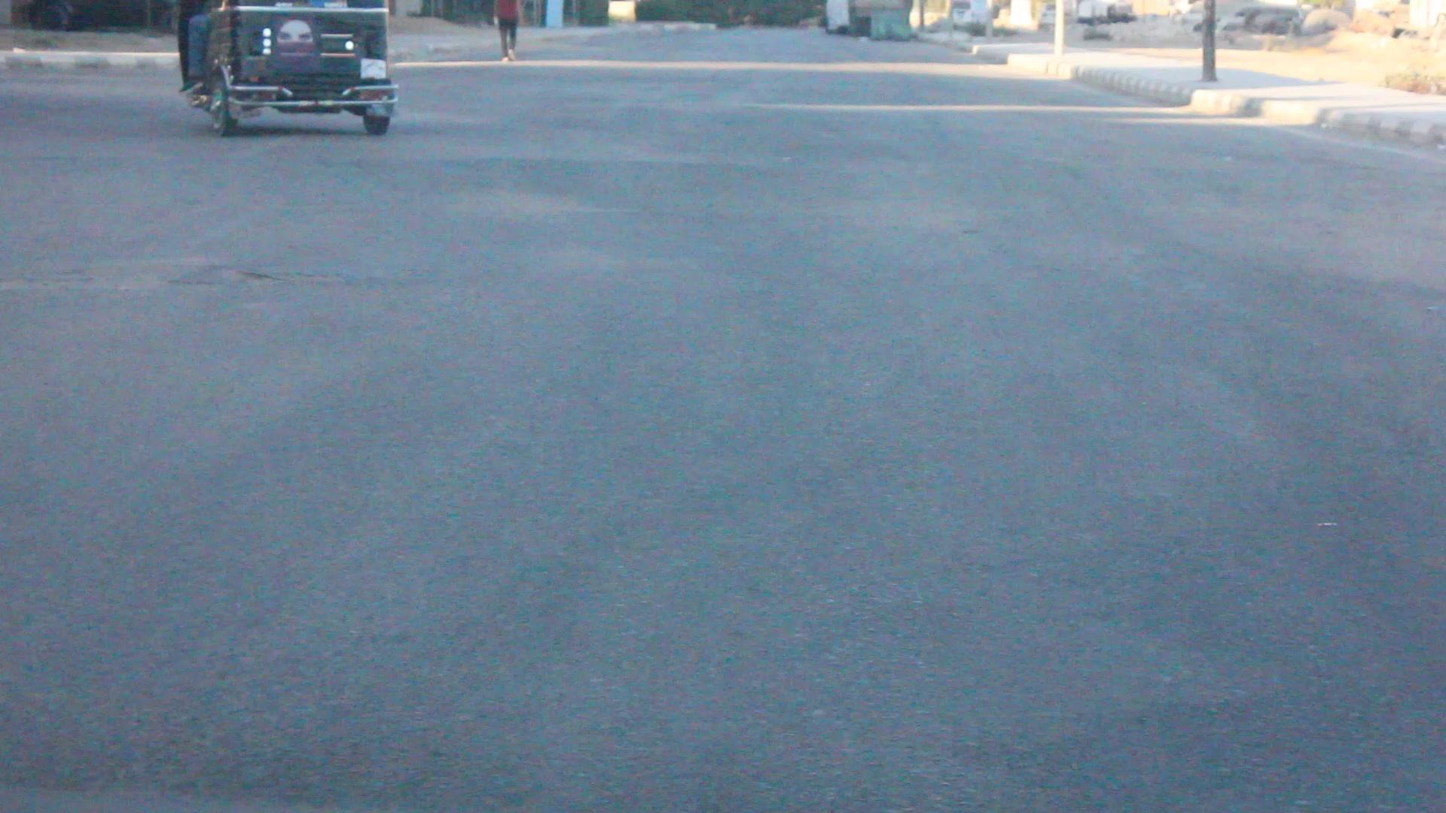Bump: (2, 132, 1442, 188)
